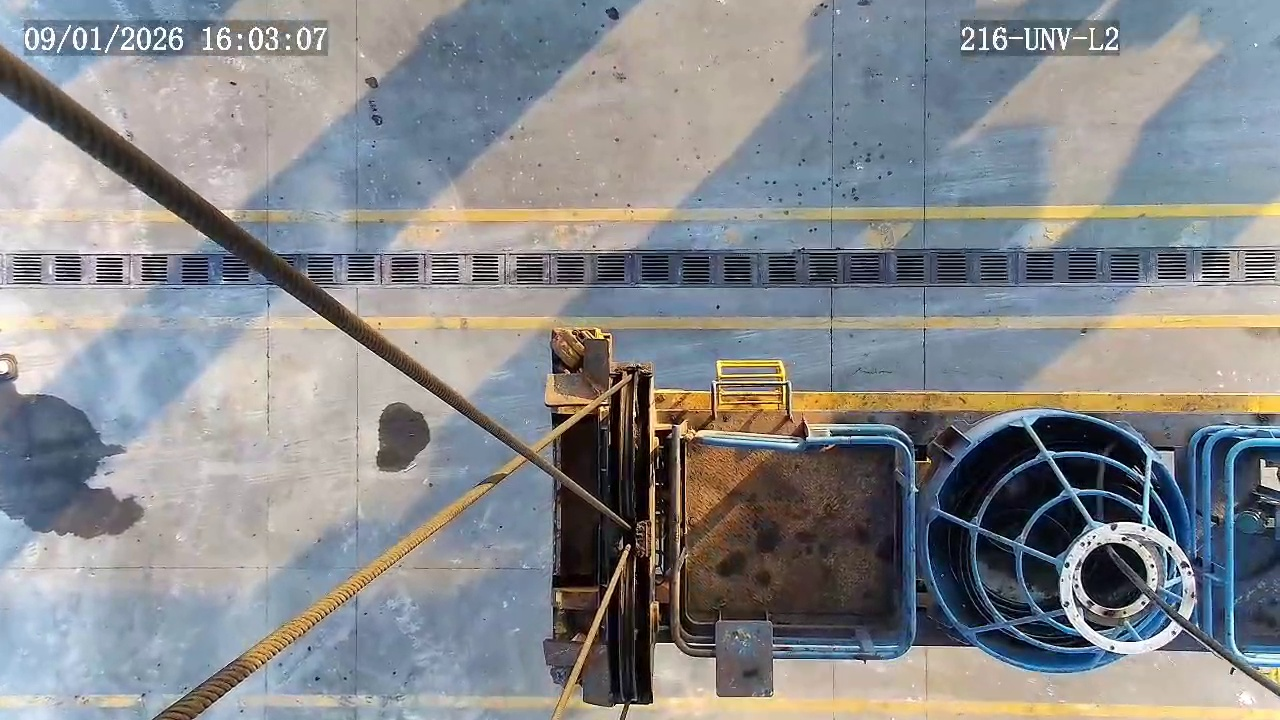left: (924, 411, 1194, 673)
